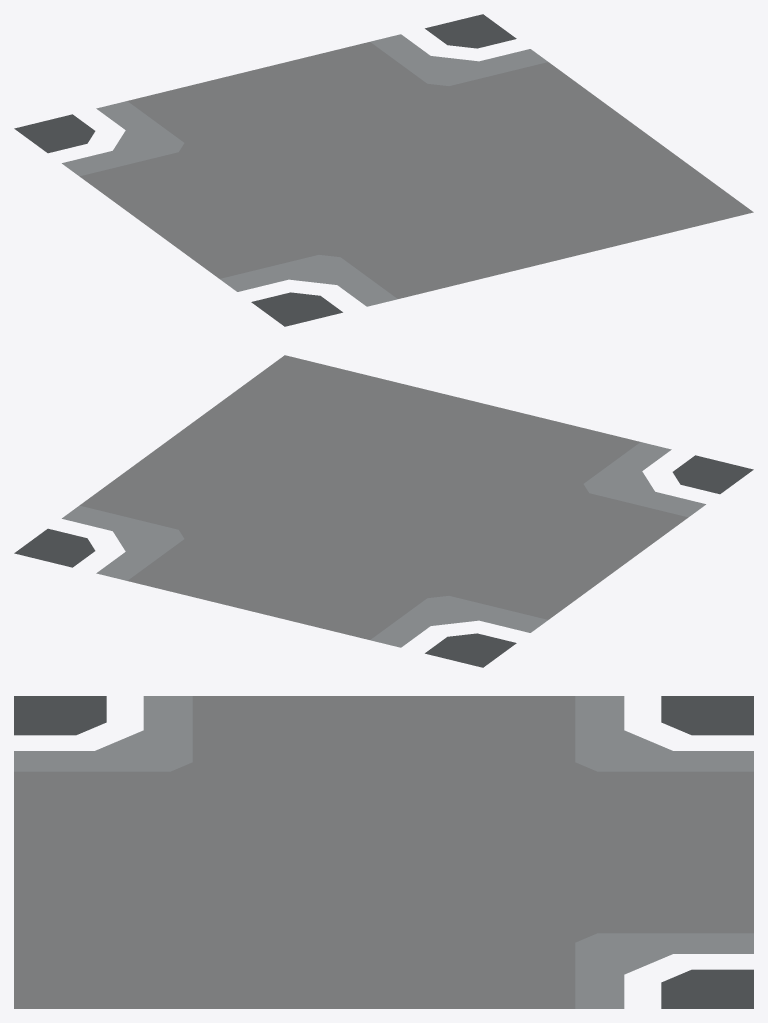
The model's file is Ceiling_type_B_050.glb.
The picture shows the model from 3 angles, top to bottom: view 1: azimuth 30°, elevation 25°; view 2: azimuth 150°, elevation 25°; view 3: azimuth 270°, elevation 25°; orthographic projection. The views are drawn at different scales.
Parts seen in each view (by area): view 1: Ceiling_type_B_050; view 2: Ceiling_type_B_050; view 3: Ceiling_type_B_050.
Part boxes in pixels (bbox=[...]): Ceiling_type_B_050: bbox=[14, 14, 753, 326]; Ceiling_type_B_050: bbox=[14, 355, 753, 667]; Ceiling_type_B_050: bbox=[14, 696, 753, 1008].
Size of the model in its own units: 4 by 0.035 by 4.
2 materials, 2 textured.
